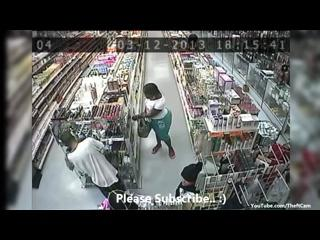Normal: (59, 130, 131, 208)
shoplifting: (132, 82, 176, 160)
